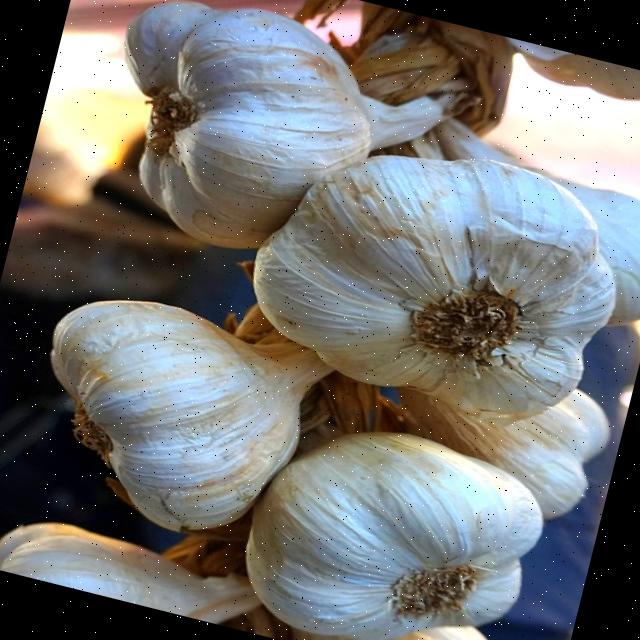garlic: (253, 155, 612, 414), (124, 1, 448, 248), (52, 300, 332, 530), (245, 432, 542, 640), (398, 388, 608, 518), (0, 522, 259, 624), (552, 177, 640, 324)
